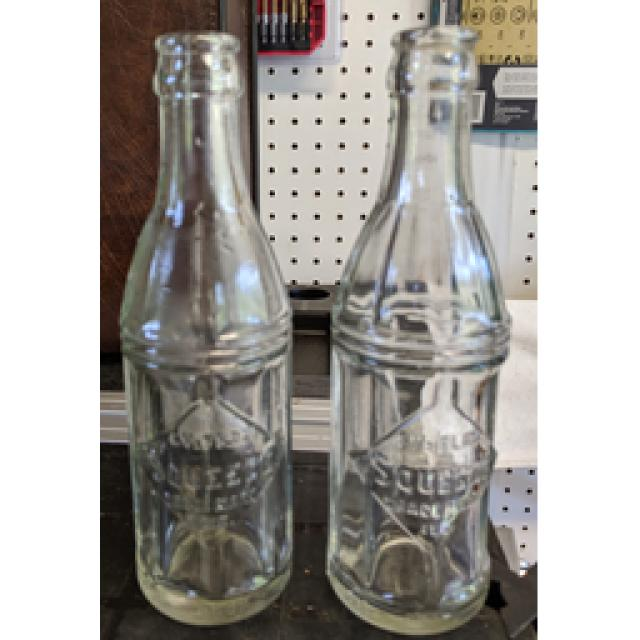glass_beverage_bottles: (120, 27, 300, 625), (330, 21, 497, 632)
